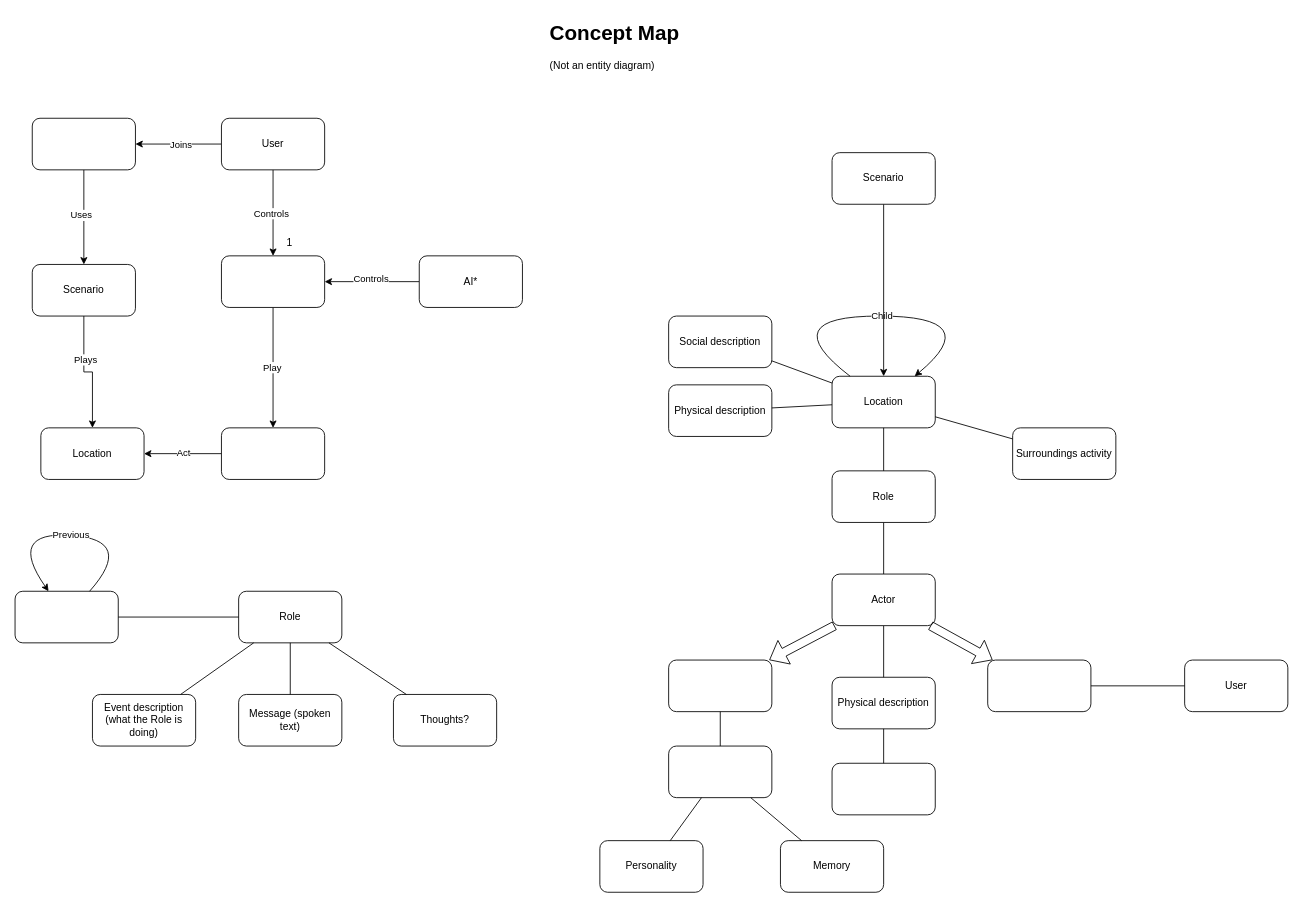
Image size: 1303x907. Some labels were removed from this diagram. Here are the shapes that lost their labels. From the top down, the centre of each, then its label:
At point (83, 143): "Scene".
At point (273, 281): "Actors".
At point (273, 453): "Roles".
At point (66, 616): "Interaction".
At point (720, 685): "Character".
At point (1039, 685): "Avatar".
At point (720, 771): "Behavior".
At point (883, 788): "Outfit".
